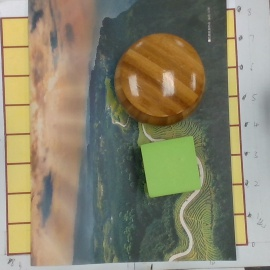chess: (114, 33, 205, 127)
